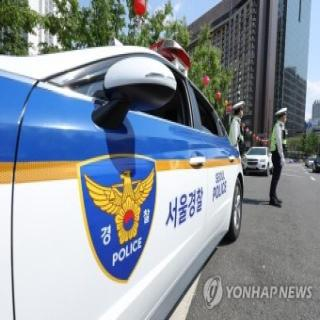Police_car: (0, 35, 246, 320)
